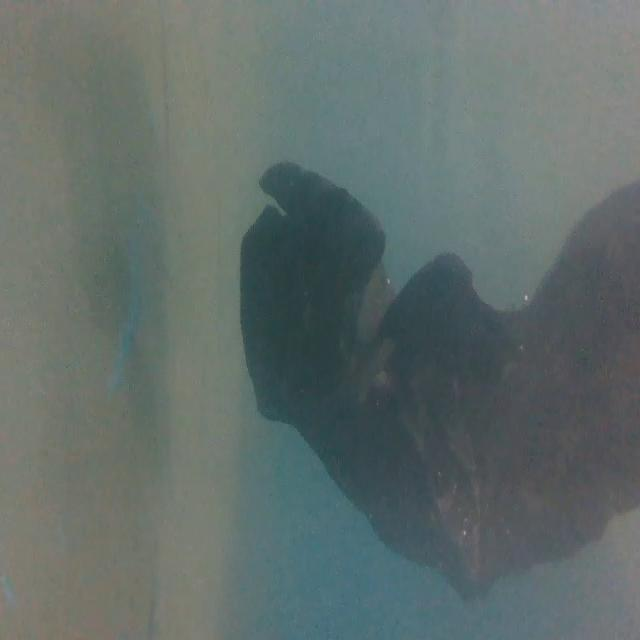plastic bags: (236, 156, 640, 606)
